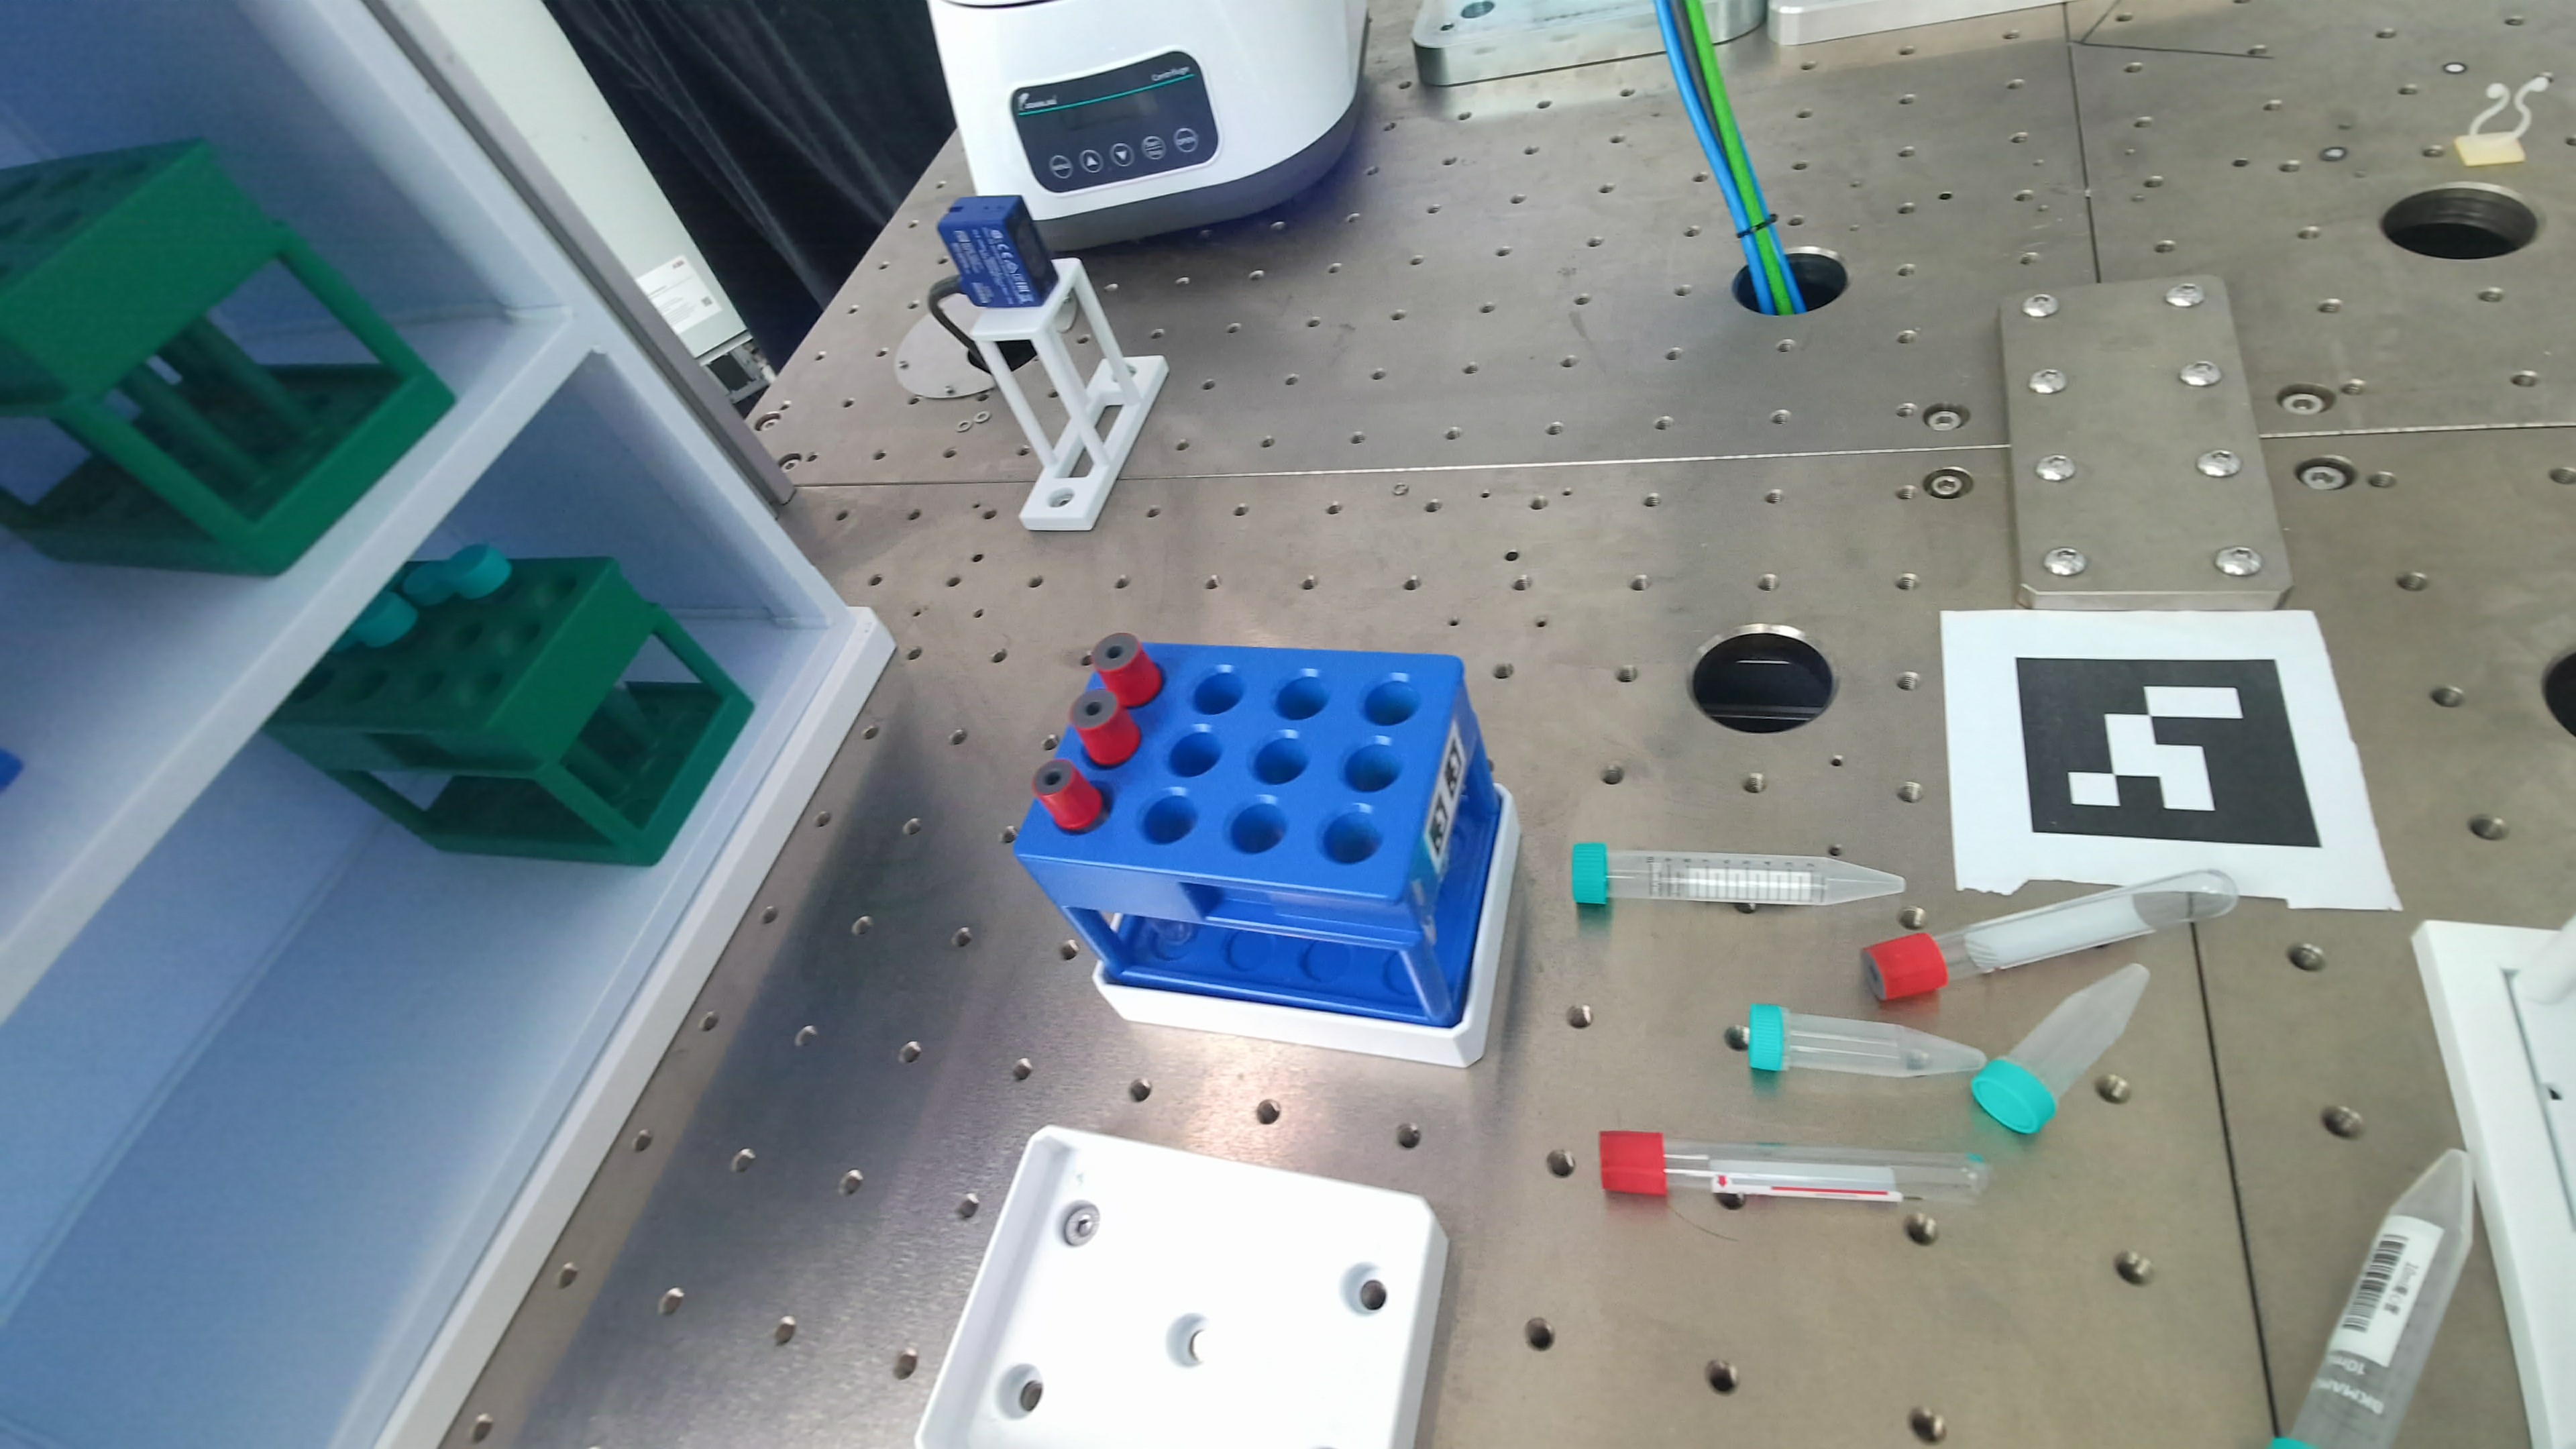10ML_centrifuge_tube: (1573, 844, 1904, 906), (336, 543, 511, 649)
10ML_sorting_tube_rack: (1014, 644, 1500, 1028)
5ML_centrifuge_tube: (2289, 1150, 2473, 1449), (1971, 964, 2148, 1134), (1732, 1005, 1985, 1077)
5ML_sorting_tube_rack: (0, 142, 453, 575), (265, 547, 752, 865)
blood_tube: (1863, 869, 2238, 1001), (1599, 1131, 1989, 1205), (1070, 688, 1141, 766), (1092, 633, 1162, 708), (1033, 757, 1102, 832)
centrifuge_close: (931, 0, 1368, 253)
dispensing_tube_rack: (2411, 920, 2576, 1447)
sorting_tube_rack_base: (916, 1127, 1447, 1447), (1093, 787, 1520, 1067)
